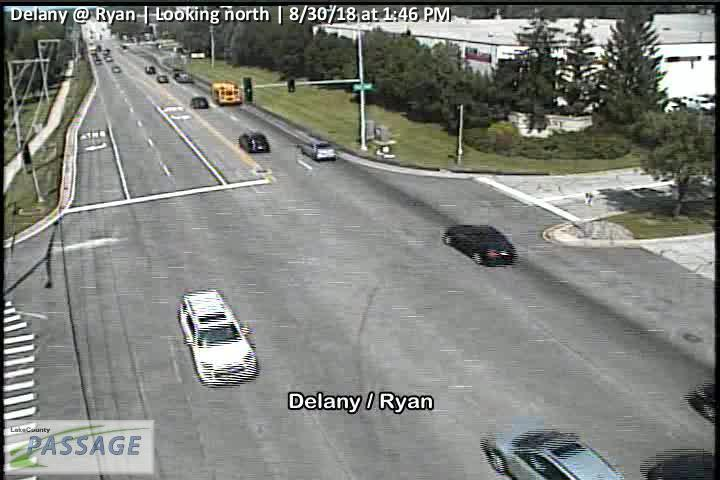SUV: (177, 289, 258, 387), (301, 138, 338, 160)
Sedan: (489, 428, 624, 480), (441, 223, 518, 267), (239, 131, 271, 153), (189, 96, 211, 110)
Truck: (211, 81, 245, 107)
